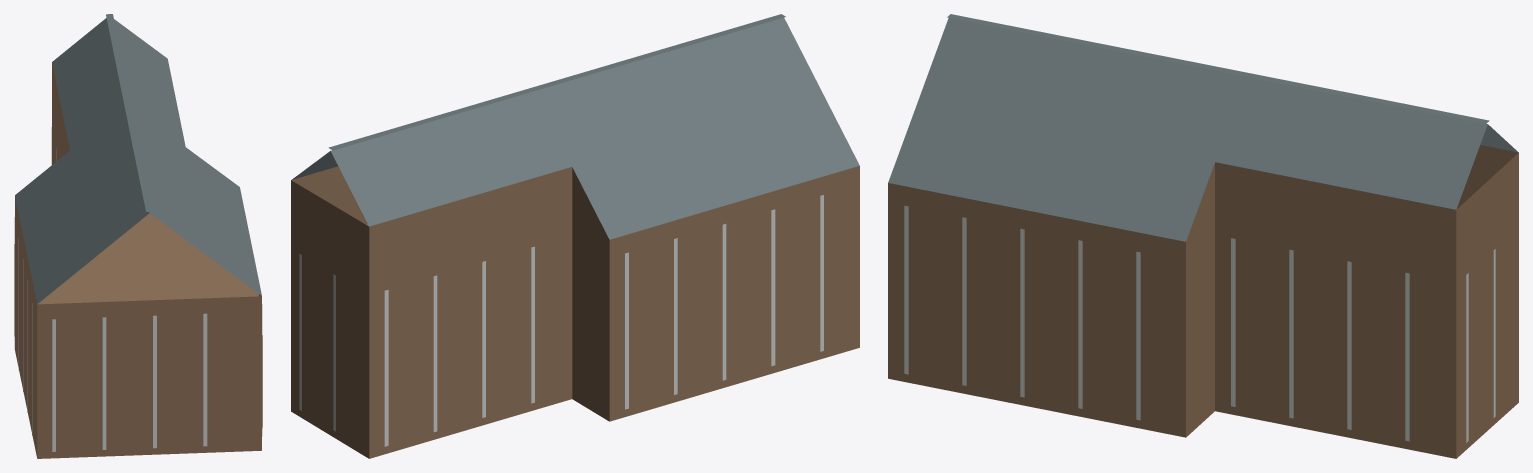
3 renders of one model, left to right at view 1: azimuth 30°, elevation 25°; view 2: azimuth 150°, elevation 25°; view 3: azimuth 270°, elevation 25°, orthographic. The views are drawn at different scales.
Parts seen in each view (by area): view 1: ninomiya-shrine; view 2: ninomiya-shrine; view 3: ninomiya-shrine.
Part boxes in pixels (bbox=[...]): ninomiya-shrine: bbox=[14, 14, 262, 458]; ninomiya-shrine: bbox=[291, 14, 859, 458]; ninomiya-shrine: bbox=[888, 14, 1518, 458].
Size of the model in its own units: 11.91 by 9.02 by 16.73.
